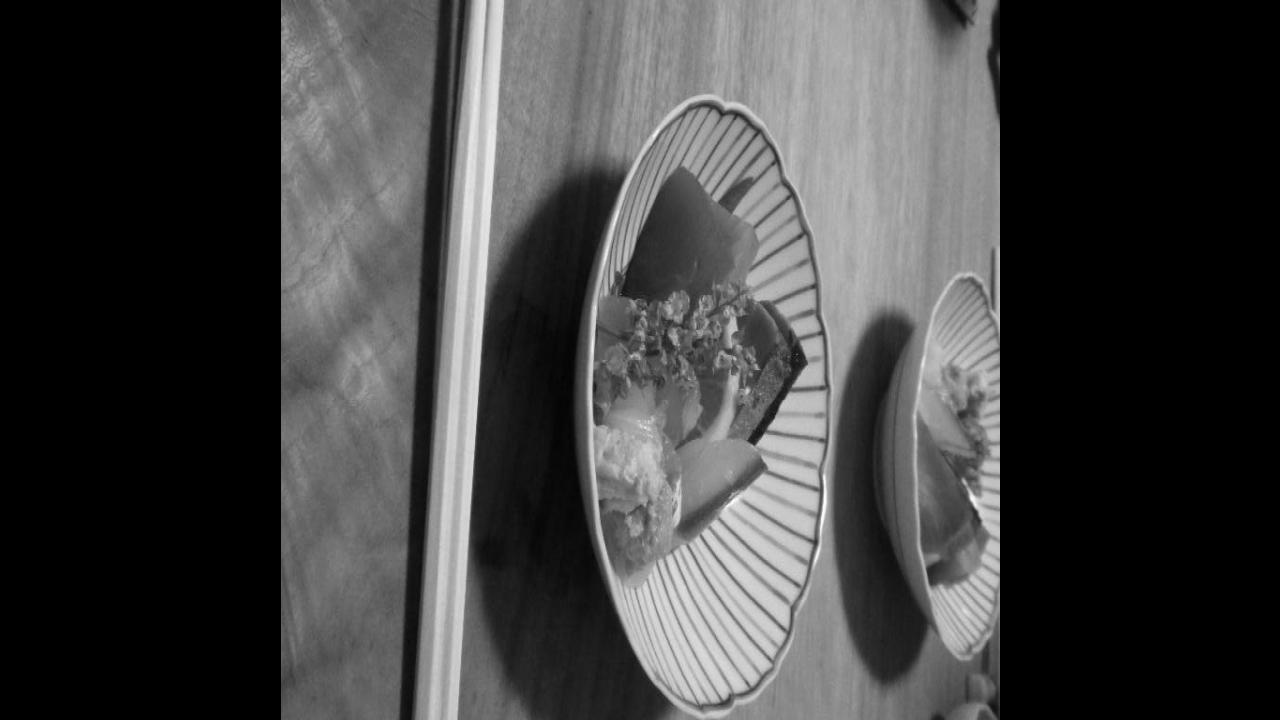chopstick: (390, 0, 518, 720)
